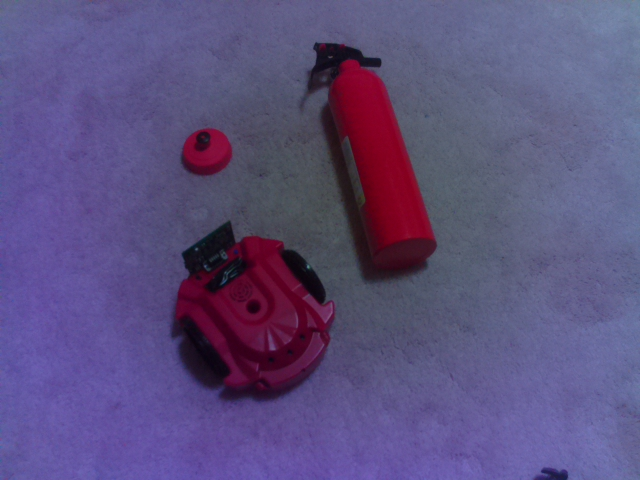chassis: (172, 219, 344, 402)
